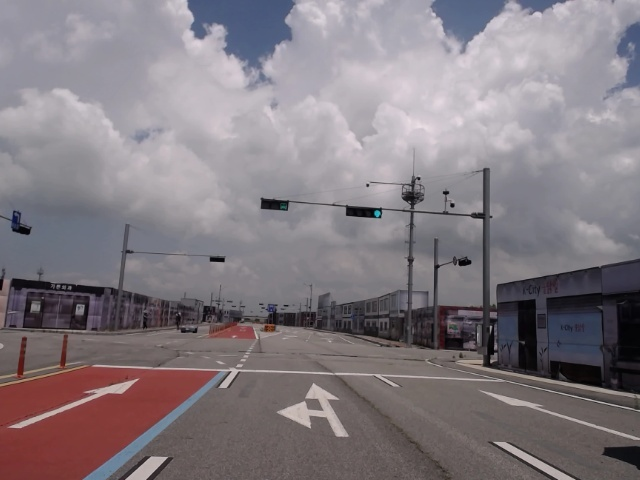straight_green_4: (346, 206, 381, 219)
